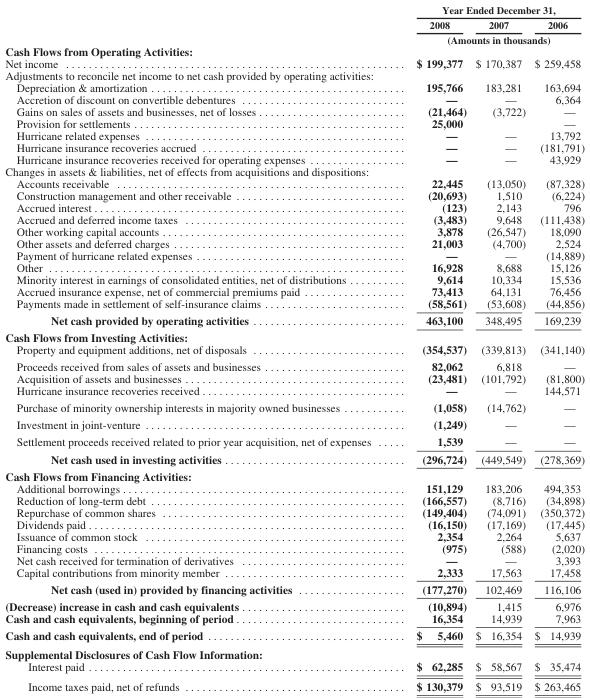table: (4, 3, 584, 692)
table column: (4, 3, 393, 692), (393, 3, 470, 692), (470, 3, 529, 692), (529, 3, 584, 692)
table column header: (4, 3, 584, 45)
table projected row header: (4, 644, 584, 660), (4, 328, 584, 343), (4, 466, 584, 481), (4, 45, 584, 57), (4, 69, 584, 81), (4, 165, 584, 177)
table row: (4, 579, 584, 597), (4, 626, 584, 644), (4, 311, 584, 328), (4, 398, 584, 415), (4, 415, 584, 432), (4, 432, 584, 449), (4, 449, 584, 466), (4, 675, 584, 692), (4, 16, 584, 32), (4, 644, 584, 660), (4, 328, 584, 343), (4, 357, 584, 372), (4, 466, 584, 481), (4, 611, 584, 626), (4, 660, 584, 675), (4, 297, 584, 311), (4, 343, 584, 357), (4, 384, 584, 398), (4, 565, 584, 579), (4, 597, 584, 611), (4, 3, 584, 16), (4, 32, 584, 45), (4, 45, 584, 57), (4, 57, 584, 69), (4, 69, 584, 81), (4, 81, 584, 93), (4, 93, 584, 105), (4, 105, 584, 117), (4, 117, 584, 129), (4, 129, 584, 141), (4, 141, 584, 153), (4, 153, 584, 165), (4, 165, 584, 177), (4, 177, 584, 189), (4, 189, 584, 201), (4, 201, 584, 213), (4, 213, 584, 225), (4, 225, 584, 237), (4, 237, 584, 249), (4, 249, 584, 261), (4, 261, 584, 273), (4, 273, 584, 285), (4, 285, 584, 297), (4, 372, 584, 384), (4, 481, 584, 493), (4, 493, 584, 505), (4, 505, 584, 517), (4, 517, 584, 529), (4, 529, 584, 541), (4, 541, 584, 553), (4, 553, 584, 565)
table spanning cell: (393, 3, 584, 16), (393, 32, 584, 45)
